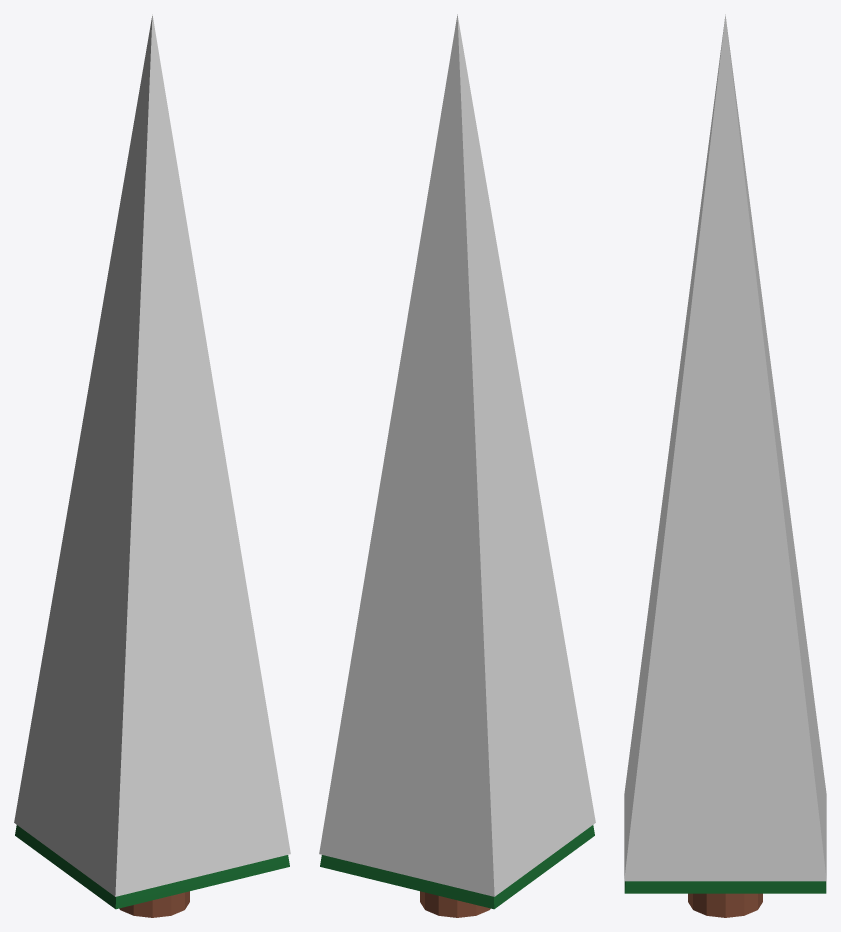
Rendered from Tree_19_winter_gradient_green.fbx.
3 renders of one model, left to right at view 1: azimuth 30°, elevation 25°; view 2: azimuth 150°, elevation 25°; view 3: azimuth 270°, elevation 25°, orthographic.
Visible parts, largest first — view 1: Tree_19_winter_gradient_green; view 2: Tree_19_winter_gradient_green; view 3: Tree_19_winter_gradient_green.
Part boxes in pixels (x1=…): Tree_19_winter_gradient_green: x1=14, y1=14, x2=290, y2=917; Tree_19_winter_gradient_green: x1=319, y1=14, x2=595, y2=917; Tree_19_winter_gradient_green: x1=624, y1=14, x2=826, y2=917.
Bounding box in the file's own units: 60.03 × 290 × 60.03.
